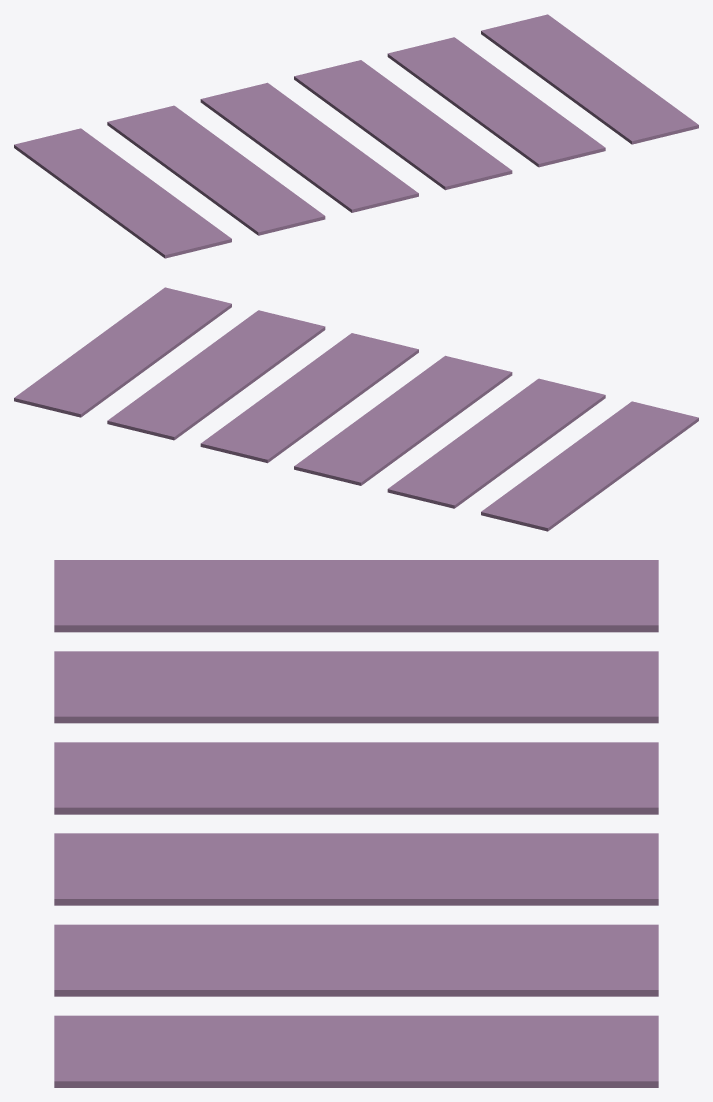
The model's file is Crossing.fbx.
3 views of the same model, one above another, from view 1: azimuth 30°, elevation 25°; view 2: azimuth 150°, elevation 25°; view 3: azimuth 270°, elevation 25° (orthographic). The views are drawn at different scales.
Visible parts, largest first — view 1: Crossing; view 2: Crossing; view 3: Crossing.
Boxes of the visible parts, <box> form: Crossing: <box>14,14,698,258</box>; Crossing: <box>14,287,698,531</box>; Crossing: <box>54,560,658,1087</box>.
Size of the model in its own units: 279 by 1.69 by 137.
